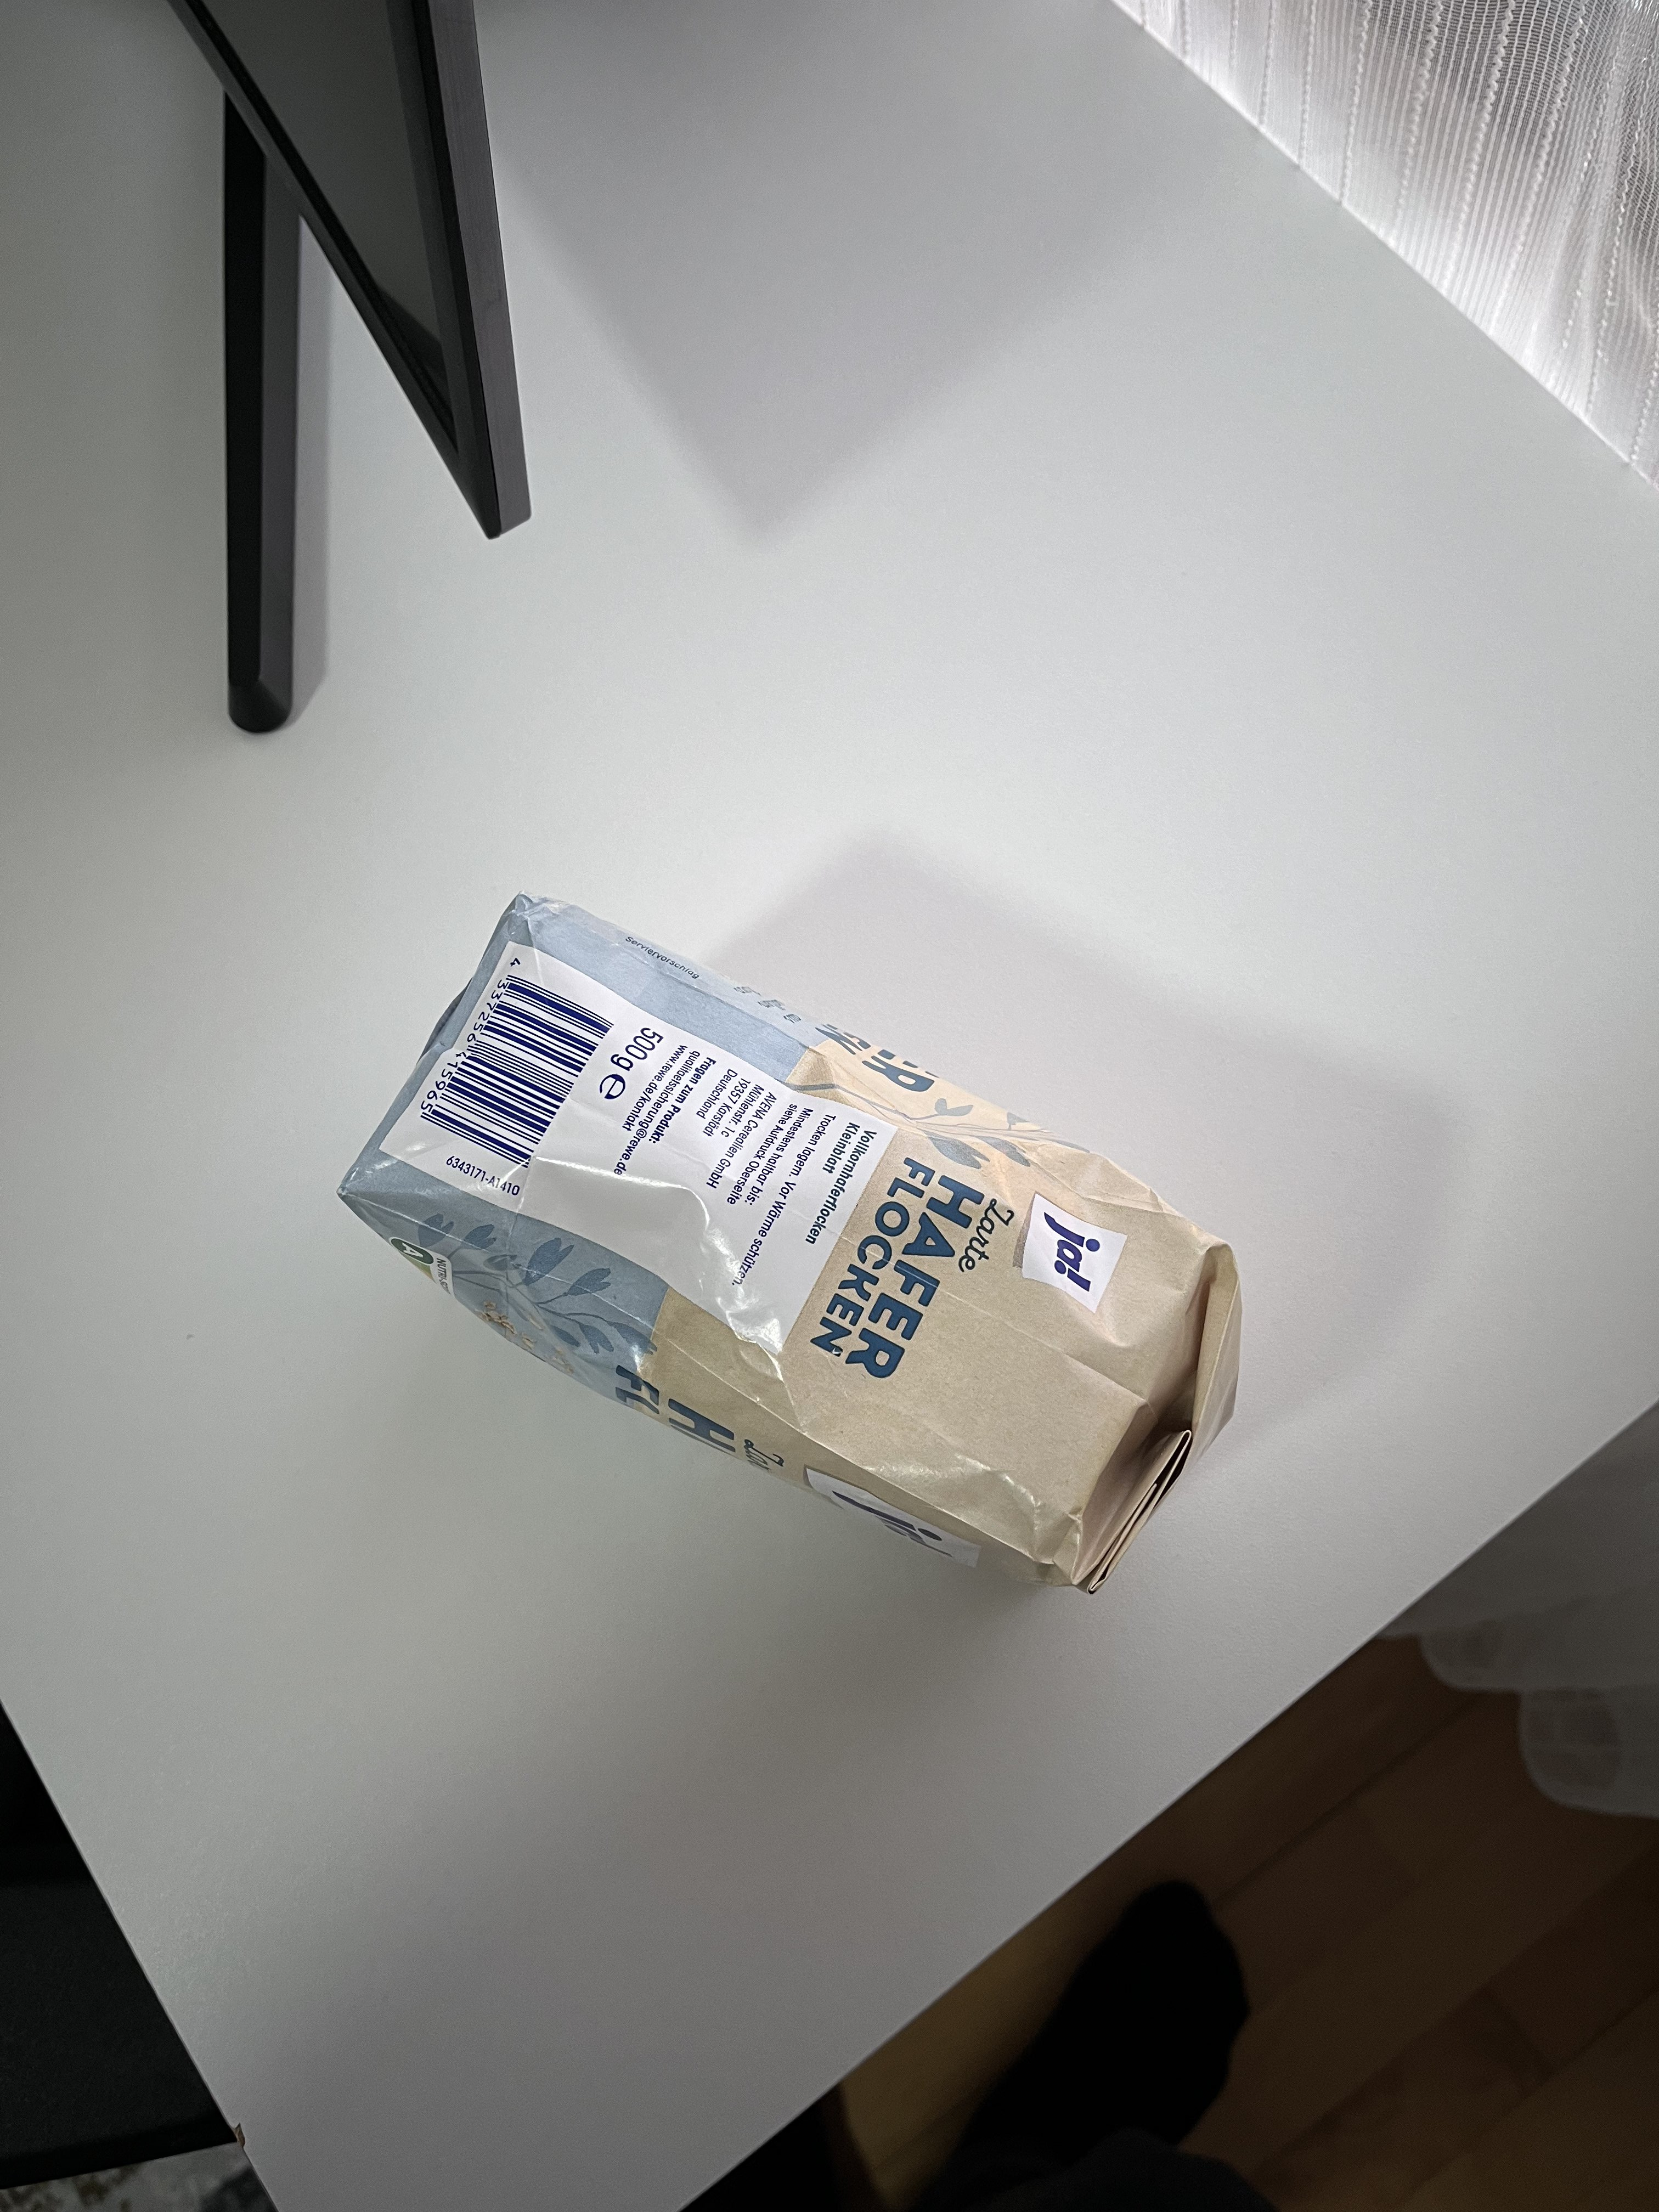haferflocken_ja: (333, 895, 1239, 1594)
